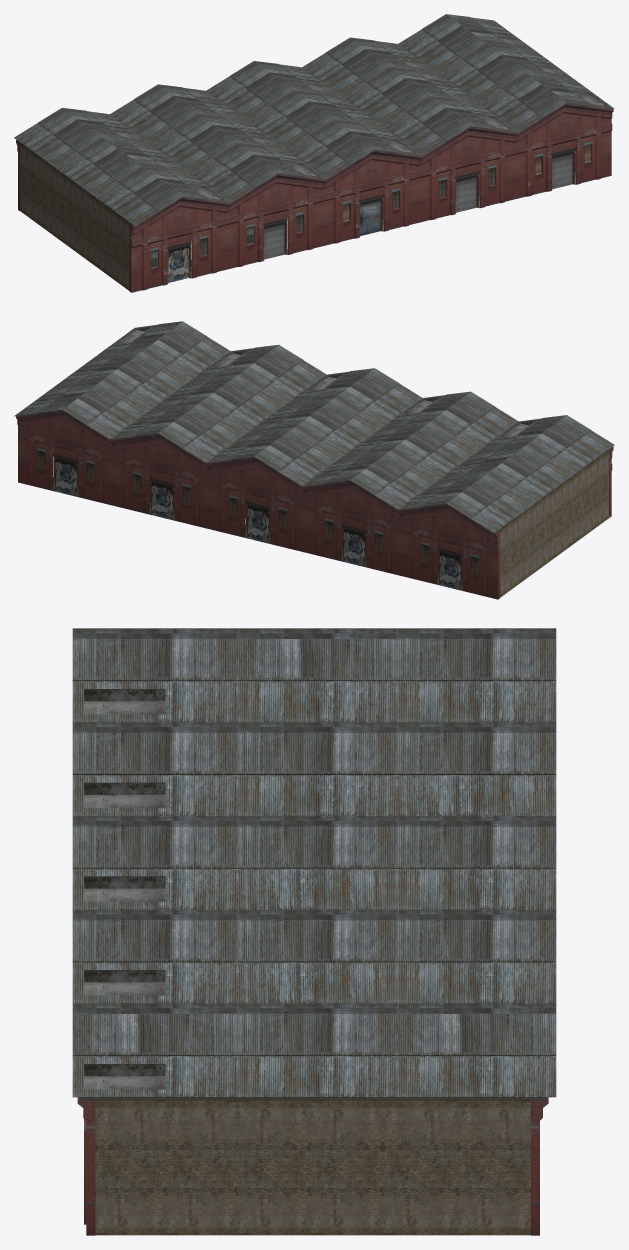
The model's file is WARE_HOUSE.fbx.
3 views of the same model, one above another, from view 1: azimuth 30°, elevation 25°; view 2: azimuth 150°, elevation 25°; view 3: azimuth 270°, elevation 25° (orthographic). The views are drawn at different scales.
Parts seen in each view (by area): view 1: mainer; view 2: mainer; view 3: mainer.
Part boxes in pixels (<box>): mainer: <box>14,14,614,292</box>; mainer: <box>14,321,614,599</box>; mainer: <box>72,628,556,1235</box>.
Bounding box in the file's own units: 24677 × 4294 × 10758.
Materials: 1 (1 with a texture image).
